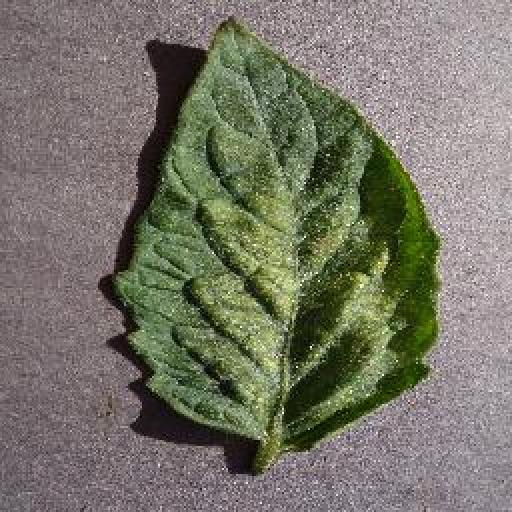disease_tomato: (117, 16, 439, 450)
